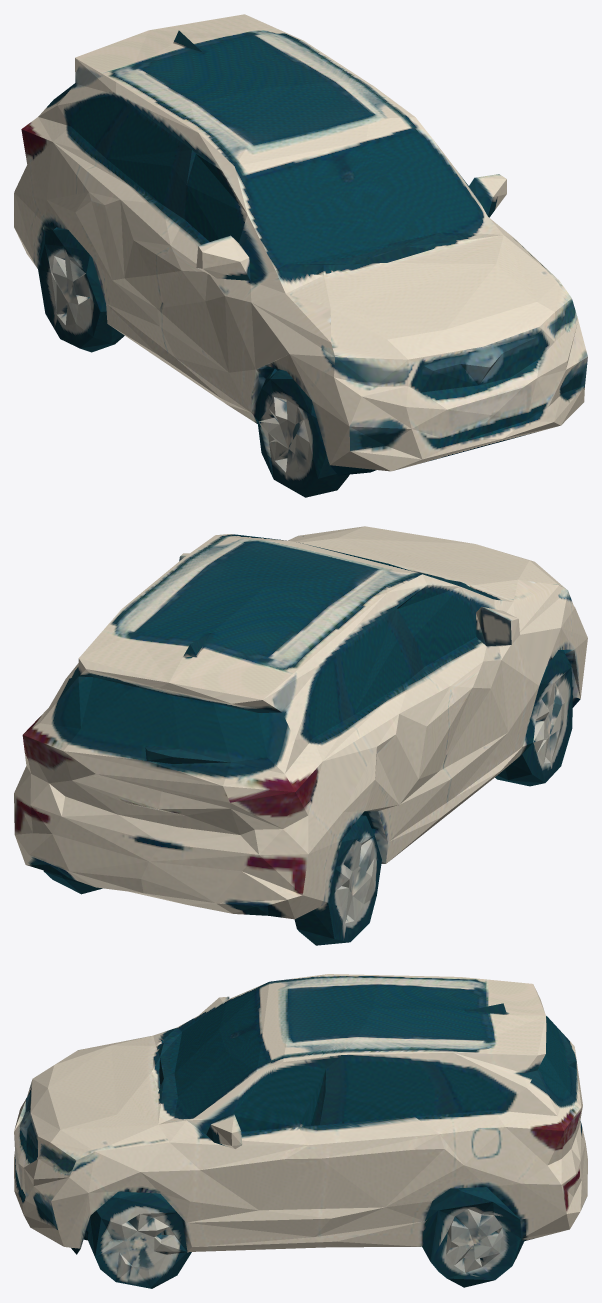
The model's file is car_b_lod.fbx.
The picture shows the model from 3 angles, top to bottom: view 1: azimuth 30°, elevation 25°; view 2: azimuth 150°, elevation 25°; view 3: azimuth 270°, elevation 25°; orthographic projection. The views are drawn at different scales.
Parts seen in each view (by area): view 1: Mesh_0; view 2: Mesh_0; view 3: Mesh_0.
Boxes of the visible parts, x1,y1,x2,y2 form: Mesh_0: [14, 14, 587, 497]; Mesh_0: [14, 526, 587, 945]; Mesh_0: [14, 974, 587, 1288].
Bounding box in the file's own units: 2.11 × 1.75 × 3.96.
1 material, 1 textured.
